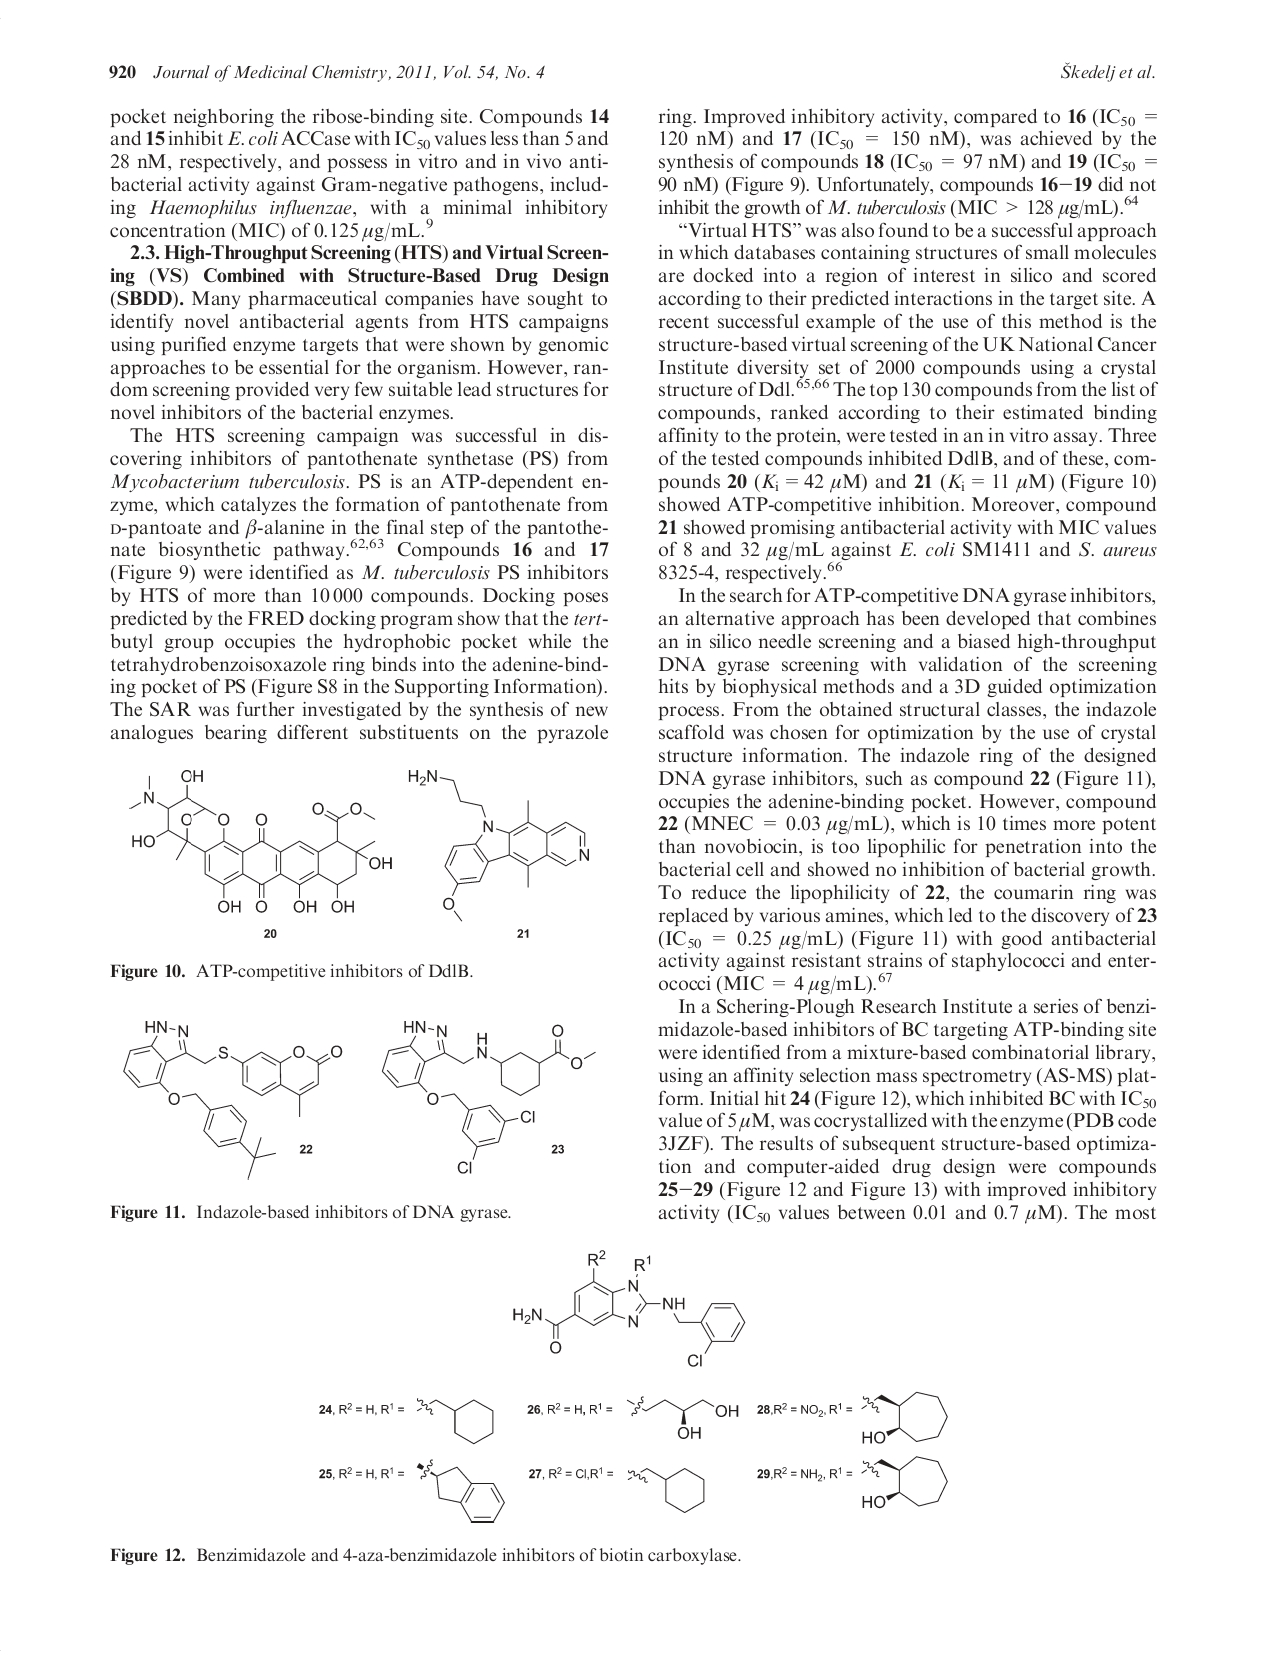exist_molecular: (120, 761, 398, 922), (120, 1013, 348, 1180), (372, 1009, 597, 1176), (406, 755, 597, 924), (505, 1243, 750, 1372), (412, 1455, 505, 1529), (622, 1384, 742, 1442), (856, 1446, 953, 1516), (856, 1384, 949, 1447), (407, 1388, 501, 1446), (622, 1460, 707, 1513)
